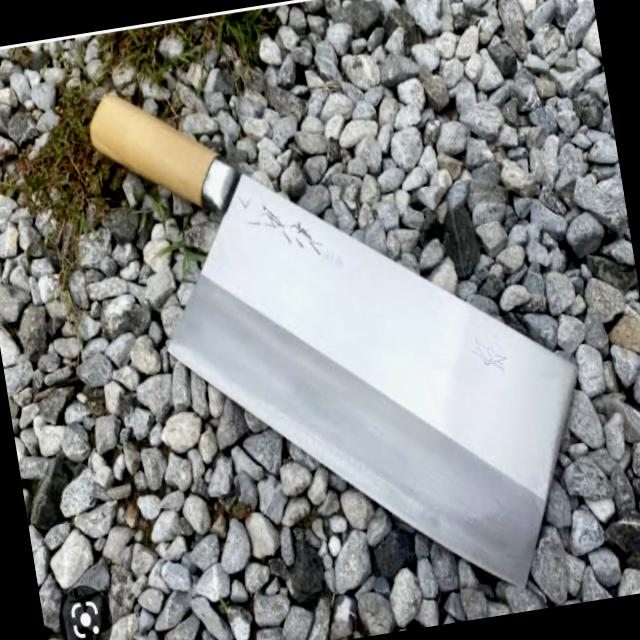knife: (64, 28, 614, 640)
